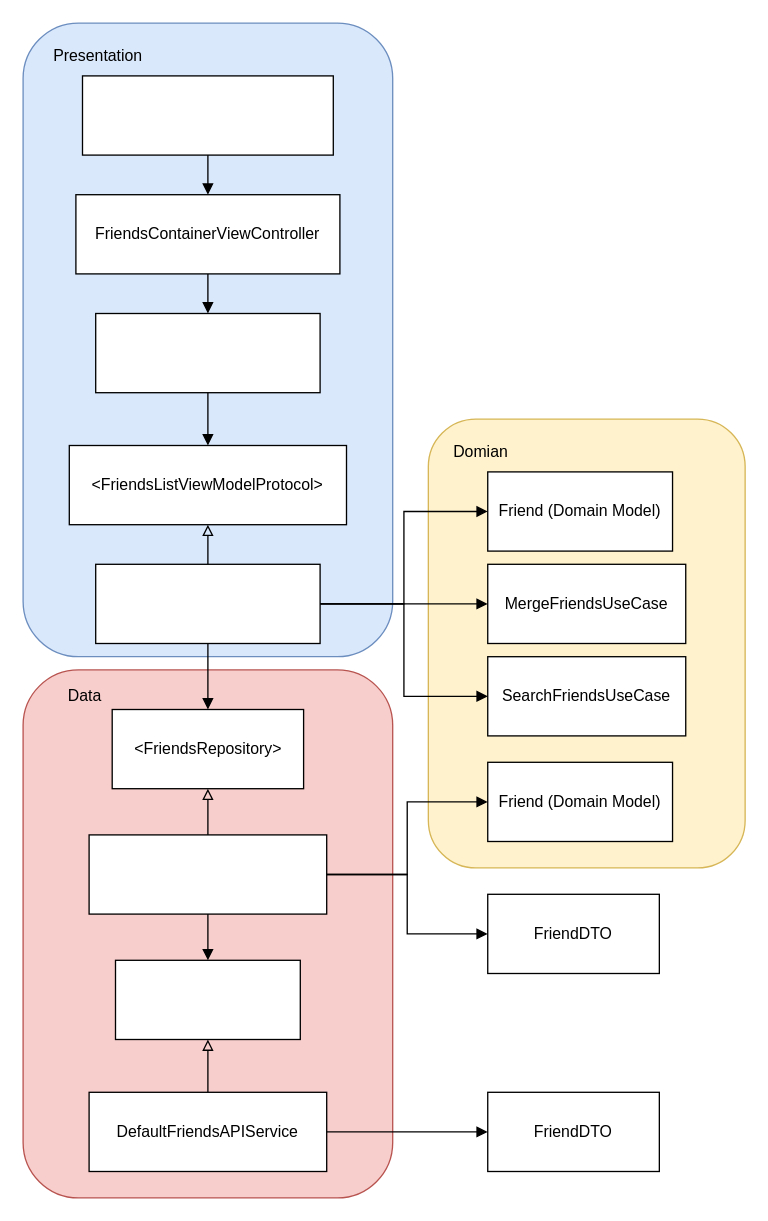
Image size: 768x1221. Some labels were removed from this diagram. Each missing label, with the centre of its shape:
<FriendsAPIService>: [207,999]
DefaultFriendsRepository: [207,874]
FriendsListViewController: [207,352]
FriendsListViewModel: [207,603]
ScenarioSelectorViewController: [207,115]
